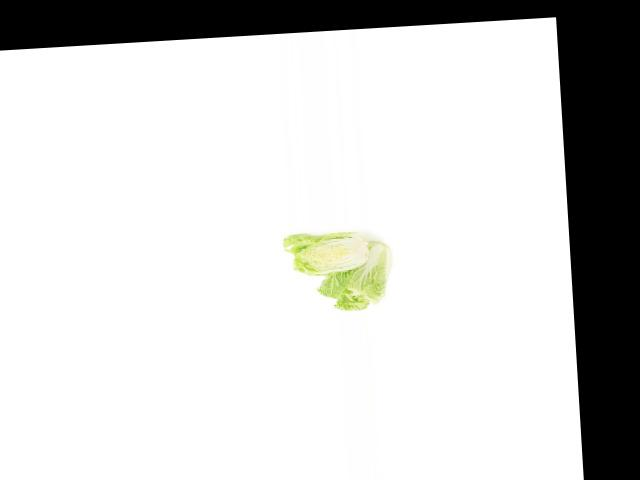lettuce: (309, 235, 397, 316)
